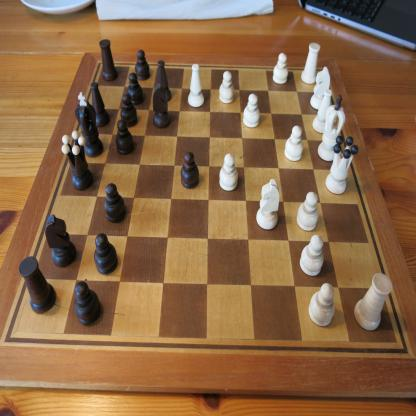black-bishop: (90, 82, 110, 128), (157, 60, 172, 103)
black-king: (74, 92, 104, 158)
black-knight: (44, 214, 76, 268), (152, 83, 170, 128)
black-pawn: (74, 281, 101, 325), (94, 232, 118, 275), (104, 182, 126, 224), (180, 151, 200, 190), (115, 119, 134, 156), (120, 93, 138, 128), (127, 72, 144, 106), (135, 49, 150, 81)
black-queen: (61, 130, 94, 192)
black-rook: (18, 256, 57, 314), (99, 38, 118, 82)
white-bishop: (312, 88, 332, 134), (187, 64, 205, 108)
white-king: (317, 94, 346, 162)
white-knight: (256, 178, 280, 231), (310, 66, 330, 110)
white-pawn: (308, 282, 335, 328), (299, 234, 324, 277), (296, 191, 319, 232), (219, 153, 238, 192), (284, 125, 304, 162), (243, 93, 260, 128), (272, 53, 289, 85), (219, 70, 235, 104)
white-queen: (325, 135, 359, 195)
white-rook: (354, 272, 393, 332), (300, 42, 321, 85)
